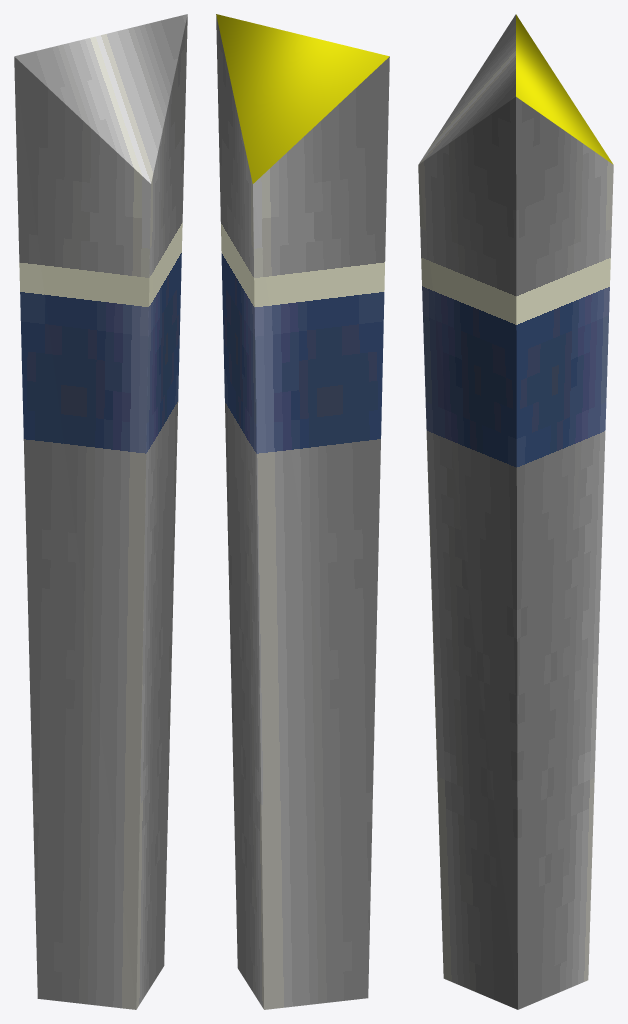
File: ImagingPoleX_Anim.glb
The picture shows the model from 3 angles, left to right: view 1: azimuth 30°, elevation 25°; view 2: azimuth 150°, elevation 25°; view 3: azimuth 270°, elevation 25°; orthographic projection. The views are drawn at different scales.
Parts seen in each view (by area): view 1: ImagingPoleX_Anim_part00; view 2: ImagingPoleX_Anim_part00; view 3: ImagingPoleX_Anim_part00.
Part boxes in pixels (x1,y1,x2,y2): ImagingPoleX_Anim_part00: (14, 14, 187, 1009); ImagingPoleX_Anim_part00: (216, 14, 389, 1009); ImagingPoleX_Anim_part00: (418, 14, 613, 1009).
Size of the model in its own units: 2.04 by 10.62 by 2.04.
Materials: 2 (2 with a texture image).
